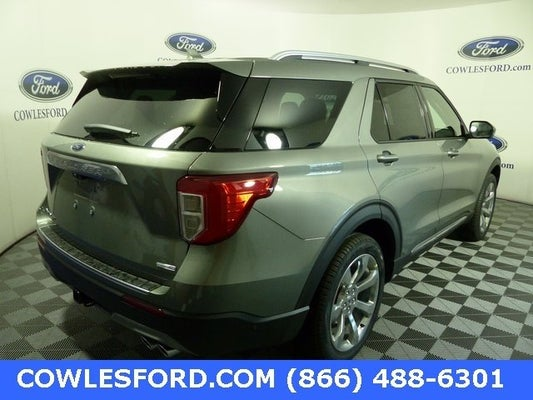Ford Explorer: (33, 52, 506, 360)
